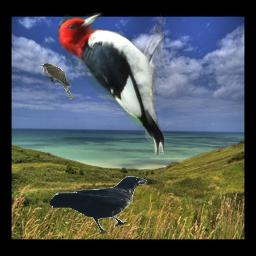Crow: (49, 176, 148, 234)
Cuckoo: (40, 63, 73, 101)
Woodpecker: (58, 12, 164, 155)
